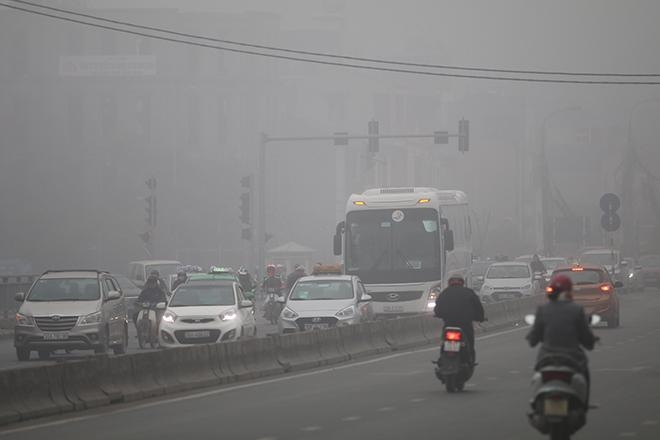bus: (339, 190, 467, 311)
car: (15, 268, 128, 357), (158, 280, 253, 350), (278, 276, 372, 333), (554, 264, 616, 321), (477, 263, 536, 306), (638, 254, 660, 290)
motorcycle: (525, 351, 594, 440), (435, 326, 478, 394), (134, 300, 158, 350), (261, 286, 280, 322)
